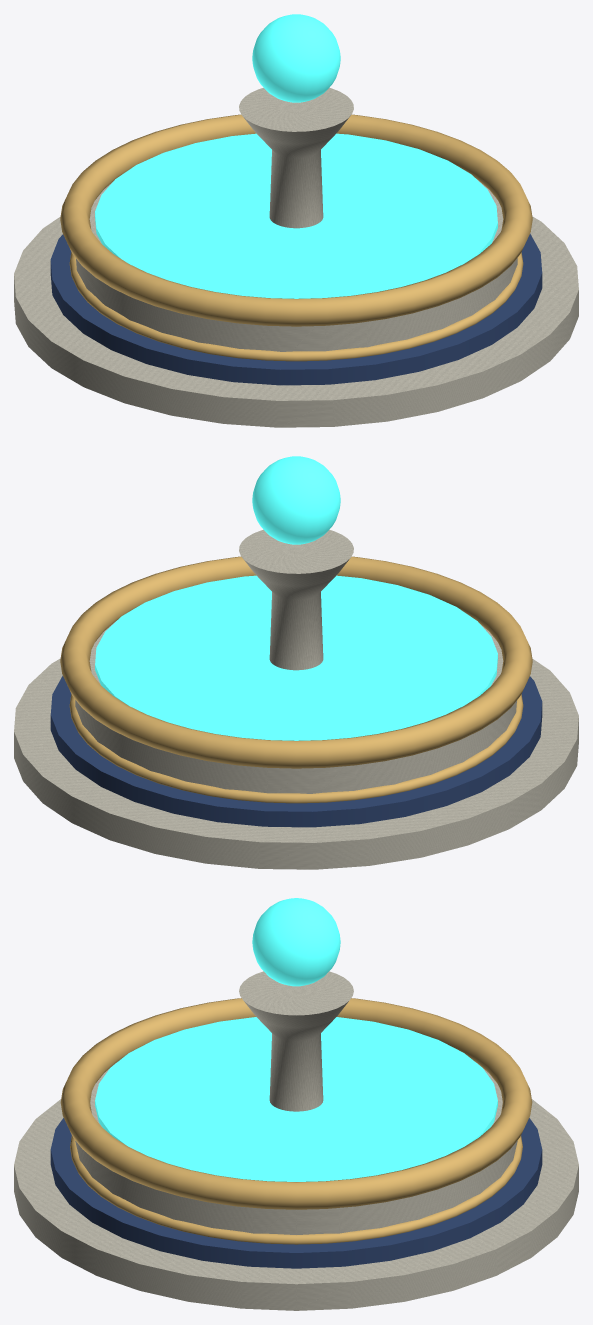
File: arcane-academy-and-spell-trials-mana-fountain-bf2bb7e7__28304.glb
3 views of the same model, one above another, from view 1: azimuth 30°, elevation 25°; view 2: azimuth 150°, elevation 25°; view 3: azimuth 270°, elevation 25° (orthographic).
Visible parts, largest first — view 1: mana-fountain; view 2: mana-fountain; view 3: mana-fountain.
Part boxes in pixels (x1=…): mana-fountain: x1=14, y1=14, x2=578, y2=427; mana-fountain: x1=14, y1=456, x2=578, y2=869; mana-fountain: x1=14, y1=898, x2=578, y2=1310.
Bounding box in the file's own units: 2.3 × 1.3 × 2.3.
4 materials, 1 textured.
